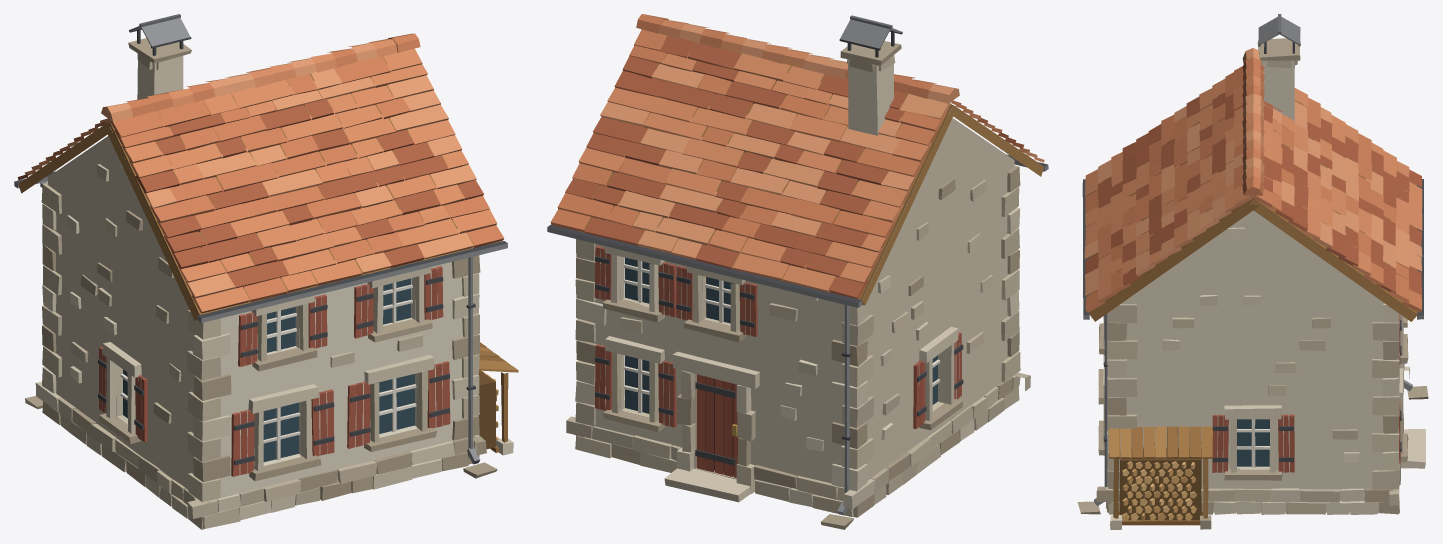
The model's file is cheminot-e.glb.
The picture shows the model from 3 angles, left to right: view 1: azimuth 30°, elevation 25°; view 2: azimuth 150°, elevation 25°; view 3: azimuth 270°, elevation 25°; orthographic projection. The views are drawn at different scales.
Visible parts, largest first — view 1: cheminot-e; view 2: cheminot-e; view 3: cheminot-e.
Boxes of the visible parts, box(x1,y1,x2,y2) form: cheminot-e: box(14, 14, 518, 529); cheminot-e: box(547, 14, 1048, 529); cheminot-e: box(1077, 14, 1428, 529).
Size of the model in its own units: 7.38 by 9.1 by 7.39.
